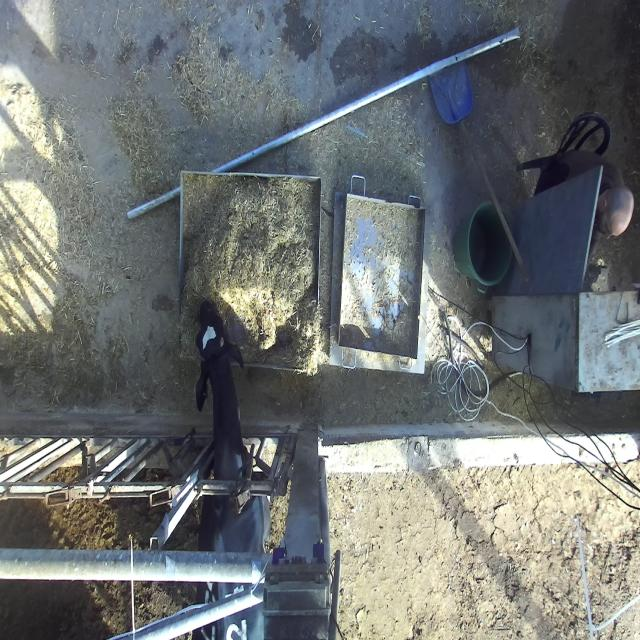cow: (194, 311, 244, 413)
